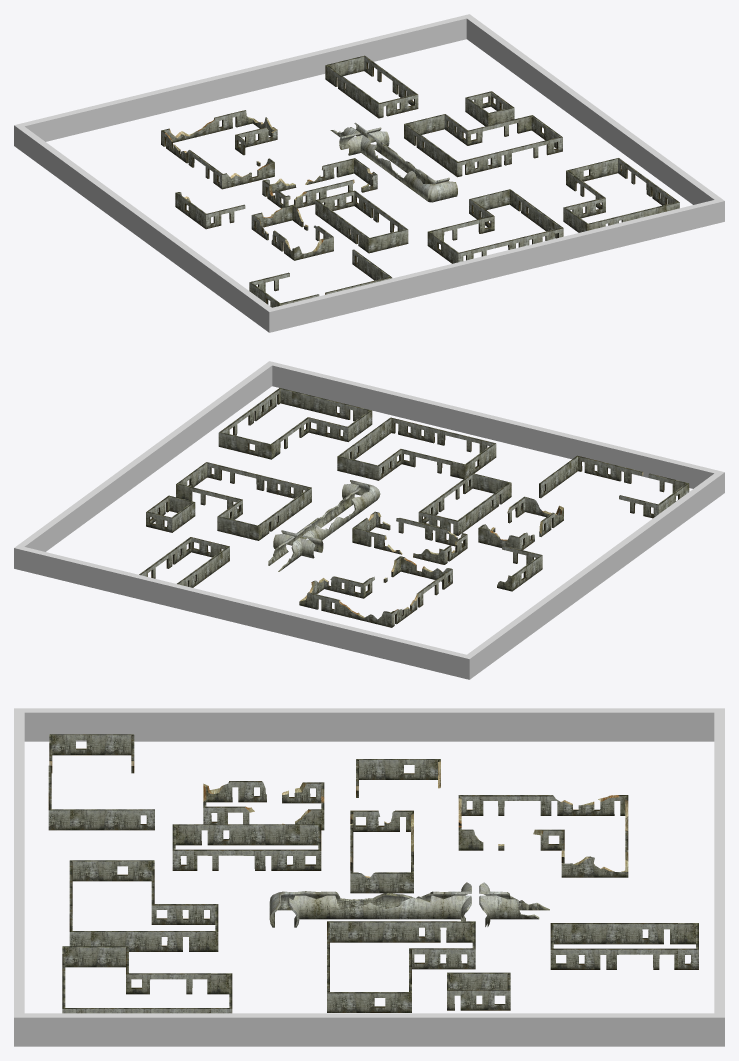
File: ruins.dae
The picture shows the model from 3 angles, top to bottom: view 1: azimuth 30°, elevation 25°; view 2: azimuth 150°, elevation 25°; view 3: azimuth 270°, elevation 25°; orthographic projection. The views are drawn at different scales.
Parts seen in each view (by area): view 1: Wall-col, pCube232.000-col, pCube242.000-col, pCube240.000-col, polySurface908.000-col, transfer_polySurface514.000-col, pCube234.000-col, pCube220.000-col, polySurface982.000-col, pCube213.000-col, polySurface1076.000-col, polySurface1072.000-col (+3 smaller); view 2: Wall-col, pCube240.000-col, pCube242.000-col, pCube232.000-col, polySurface908.000-col, transfer_polySurface514.000-col, pCube234.000-col, polySurface982.000-col, pCube220.000-col, pCube260.000-col, pCube213.000-col, pCube250.000-col (+3 smaller); view 3: Wall-col, transfer_polySurface514.000-col, pCube232.000-col, pCube242.000-col, pCube234.000-col, pCube220.000-col, polySurface908.000-col, pCube240.000-col, polySurface982.000-col, pCube260.000-col, pCube213.000-col, pCube250.000-col (+3 smaller).
Boxes of the visible parts, bbox=[...] form: Wall-col: bbox=[14, 14, 724, 332]; pCube232.000-col: bbox=[404, 114, 562, 177]; pCube242.000-col: bbox=[427, 189, 563, 263]; pCube240.000-col: bbox=[563, 158, 679, 232]; polySurface908.000-col: bbox=[161, 110, 277, 189]; transfer_polySurface514.000-col: bbox=[330, 122, 457, 202]; pCube234.000-col: bbox=[315, 190, 408, 253]; pCube220.000-col: bbox=[325, 55, 418, 118]; polySurface982.000-col: bbox=[262, 158, 377, 208]; pCube213.000-col: bbox=[465, 91, 514, 126]; polySurface1076.000-col: bbox=[175, 192, 245, 229]; polySurface1072.000-col: bbox=[271, 225, 333, 260]; Wall-col: bbox=[14, 361, 724, 679]; pCube240.000-col: bbox=[218, 388, 372, 459]; pCube242.000-col: bbox=[337, 417, 496, 480]; pCube232.000-col: bbox=[176, 462, 311, 540]; polySurface908.000-col: bbox=[299, 556, 452, 627]; transfer_polySurface514.000-col: bbox=[268, 480, 380, 571]; pCube234.000-col: bbox=[418, 473, 511, 535]; polySurface982.000-col: bbox=[352, 511, 467, 564]; pCube220.000-col: bbox=[139, 537, 229, 587]; pCube260.000-col: bbox=[539, 455, 643, 498]; pCube213.000-col: bbox=[146, 495, 195, 532]; pCube250.000-col: bbox=[619, 473, 689, 518]; Wall-col: bbox=[14, 708, 724, 1046]; transfer_polySurface514.000-col: bbox=[269, 882, 549, 927]; pCube232.000-col: bbox=[327, 921, 475, 1012]; pCube242.000-col: bbox=[69, 860, 218, 951]; pCube234.000-col: bbox=[172, 824, 321, 870]; pCube220.000-col: bbox=[550, 923, 698, 969]; polySurface908.000-col: bbox=[458, 795, 628, 877]; pCube240.000-col: bbox=[62, 946, 232, 1013]; polySurface982.000-col: bbox=[350, 810, 413, 893]; pCube260.000-col: bbox=[48, 765, 154, 830]; pCube213.000-col: bbox=[447, 972, 510, 1010]; pCube250.000-col: bbox=[49, 734, 134, 773].
Size of what is drawn, in the model's own units: 138 by 134 by 6.25.
Materials: 1 (1 with a texture image).
